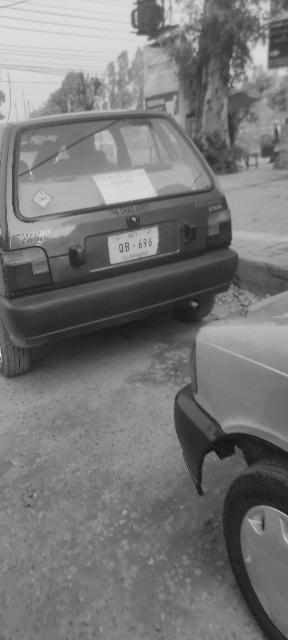Number: (118, 235, 154, 254)
